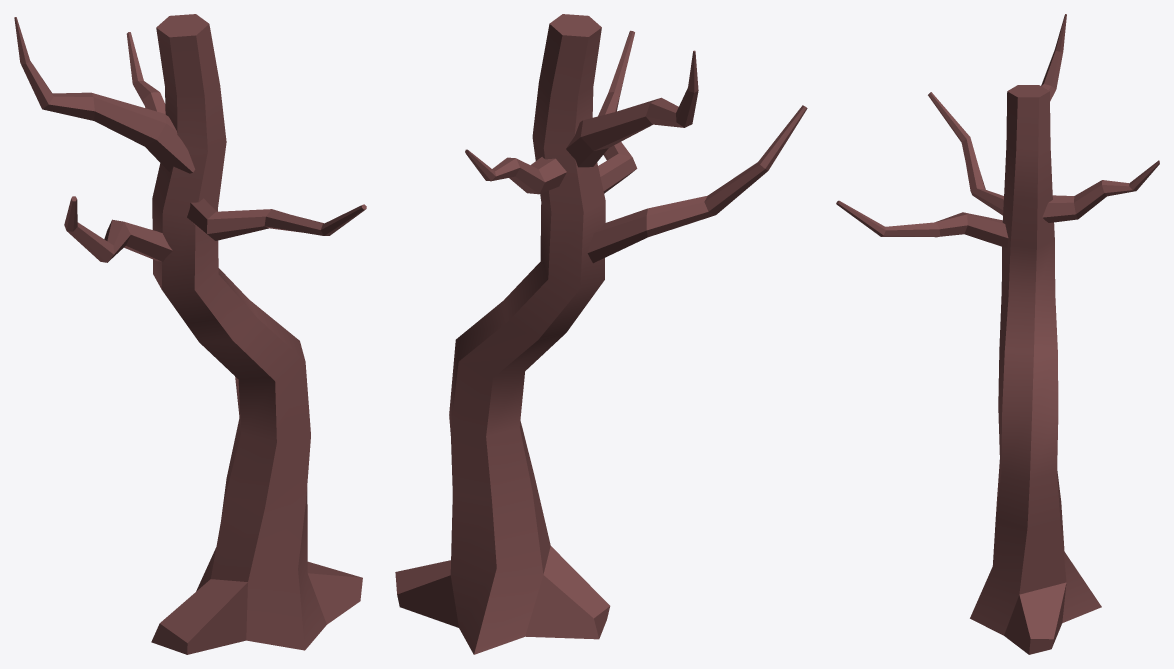
File: Tree 2-Dead-Cebu.fbx
3 renders of one model, left to right at view 1: azimuth 30°, elevation 25°; view 2: azimuth 150°, elevation 25°; view 3: azimuth 270°, elevation 25°, orthographic. The views are drawn at different scales.
Parts seen in each view (by area): view 1: sweep23; view 2: sweep23; view 3: sweep23.
Boxes of the visible parts, left/top/right/bottom form: sweep23: left=14, top=14, right=366, bottom=654; sweep23: left=395, top=14, right=807, bottom=654; sweep23: left=836, top=14, right=1159, bottom=654.
Size of the model in its own units: 218 by 379 by 216.
